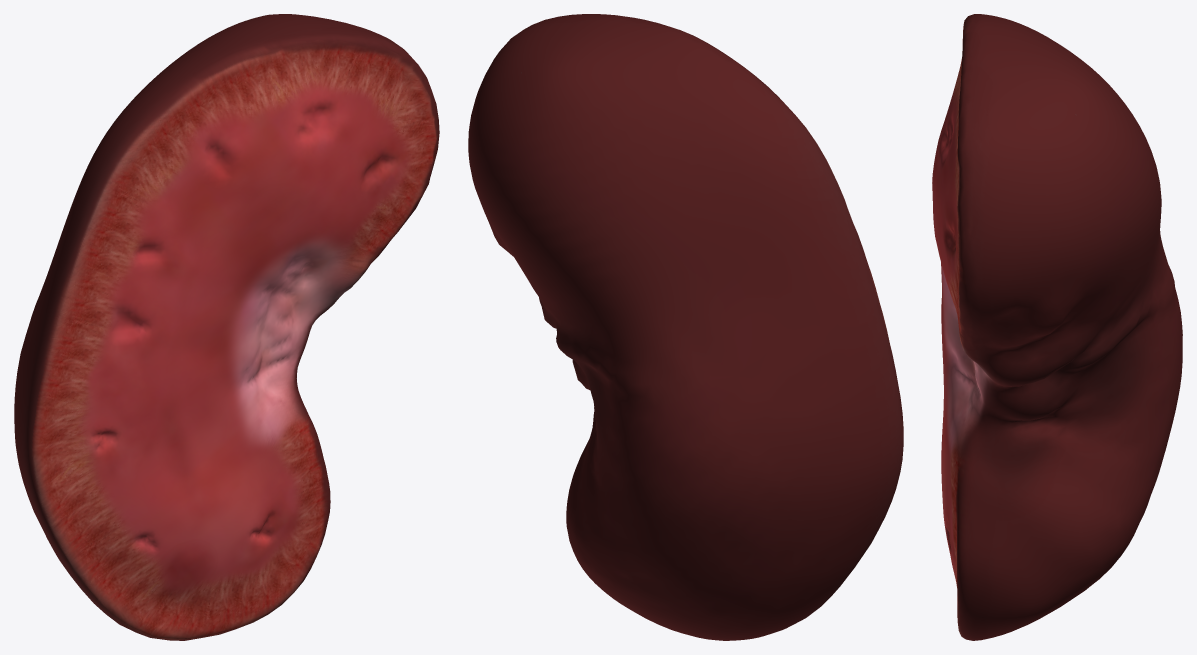
Rendered from 1_normal.glb.
The picture shows the model from 3 angles, left to right: view 1: azimuth 30°, elevation 25°; view 2: azimuth 150°, elevation 25°; view 3: azimuth 270°, elevation 25°; orthographic projection. The views are drawn at different scales.
Visible parts, largest first — view 1: bobrektemel; view 2: bobrektemel; view 3: bobrektemel.
Part boxes in pixels (x1,y1,x2,y2): bobrektemel: (14, 14, 439, 640); bobrektemel: (468, 14, 903, 640); bobrektemel: (932, 14, 1182, 640).
Size of the model in its own units: 0.3515 by 0.4765 by 0.1751.
Materials: 1 (1 with a texture image).
